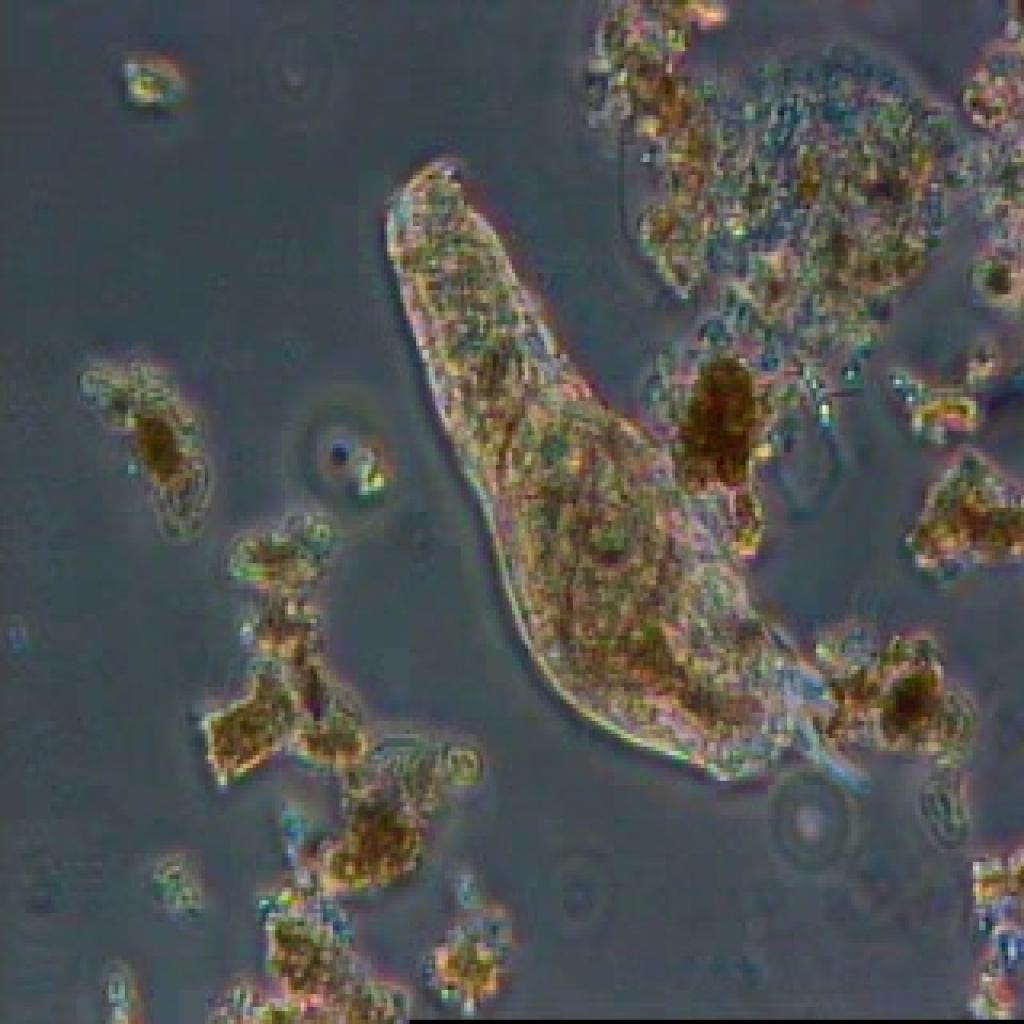Rotatoria: (379, 158, 827, 806)
